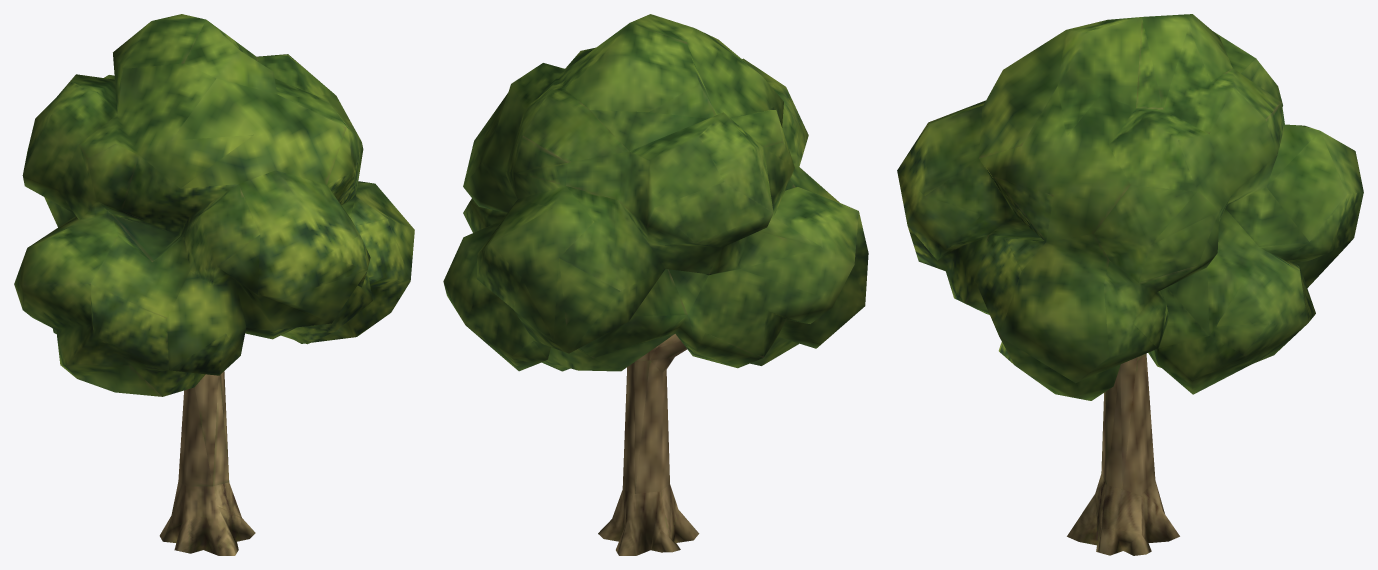
Rendered from tree-oak-02.glb.
3 renders of one model, left to right at view 1: azimuth 30°, elevation 25°; view 2: azimuth 150°, elevation 25°; view 3: azimuth 270°, elevation 25°, orthographic. The views are drawn at different scales.
Bounding box in the file's own units: 0.7476 × 0.9531 × 0.7686.
1 material, 1 textured.
